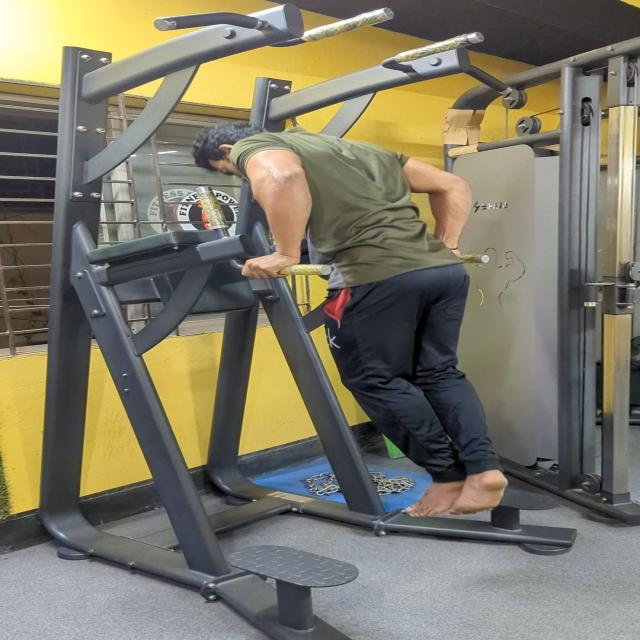Normal_Dips: (142, 92, 640, 562)
